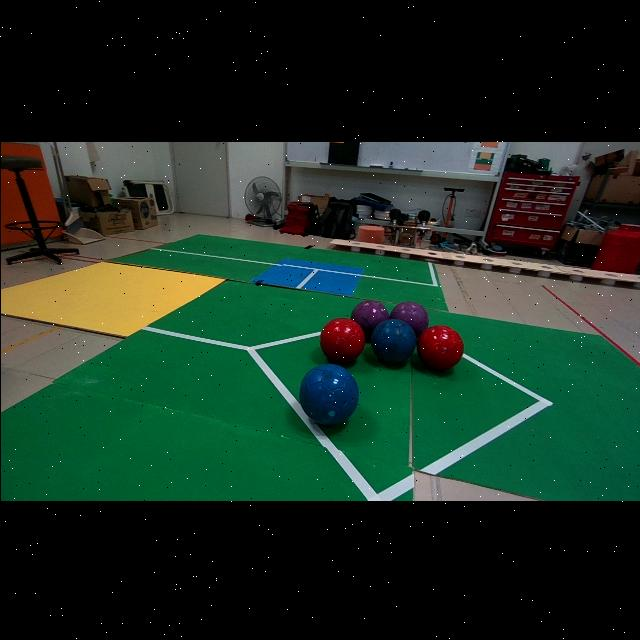B: (298, 362, 358, 424), (372, 319, 415, 362)
P: (350, 298, 389, 338), (389, 299, 427, 335)
R: (319, 316, 364, 363), (416, 325, 463, 369)
